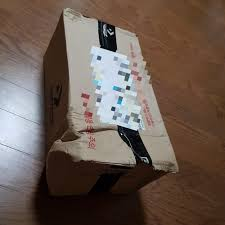damaged package: (44, 92, 91, 168), (138, 160, 176, 178)
